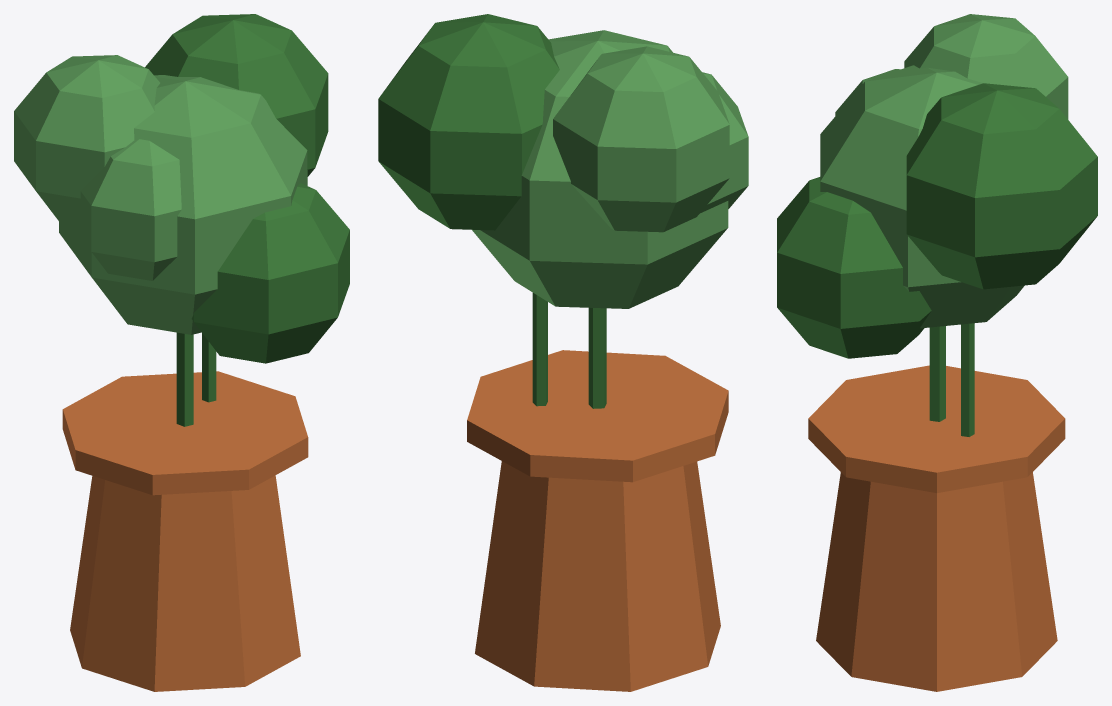
Rendered from plant.glb.
3 renders of one model, left to right at view 1: azimuth 30°, elevation 25°; view 2: azimuth 150°, elevation 25°; view 3: azimuth 270°, elevation 25°, orthographic. The views are drawn at different scales.
Visible parts, largest first — view 1: Plant; view 2: Plant; view 3: Plant.
Boxes of the visible parts, <box> form: Plant: <box>14,14,349,691</box>; Plant: <box>378,14,748,691</box>; Plant: <box>777,14,1097,691</box>.
Size of the model in its own units: 0.4611 by 0.86 by 0.4245.
